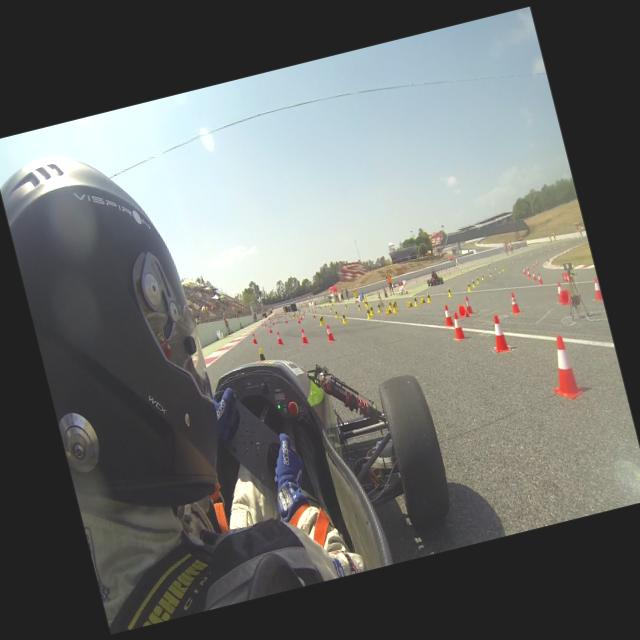orange_cone: (543, 332, 585, 402), (486, 313, 512, 353), (448, 311, 467, 342), (506, 290, 521, 314), (440, 303, 454, 327), (588, 278, 602, 302), (558, 287, 575, 305), (553, 281, 566, 303), (462, 295, 474, 315), (322, 324, 334, 342), (456, 302, 468, 317), (298, 328, 308, 345), (274, 330, 283, 346), (536, 272, 544, 284), (250, 332, 258, 344), (565, 271, 573, 282), (530, 271, 536, 281), (561, 272, 568, 280), (267, 325, 273, 334), (526, 270, 530, 277), (296, 317, 300, 323), (312, 312, 316, 318), (522, 269, 526, 275), (299, 314, 303, 320), (270, 320, 274, 326), (522, 266, 526, 272), (284, 318, 288, 323), (531, 263, 535, 268), (534, 261, 538, 265), (526, 266, 530, 270)
yellow_cone: (364, 306, 372, 318), (368, 303, 376, 315), (339, 312, 346, 324), (258, 348, 265, 360), (317, 314, 324, 326), (390, 301, 397, 313), (424, 292, 432, 302), (374, 302, 382, 312), (418, 294, 426, 304), (406, 298, 414, 308), (446, 286, 452, 297), (412, 295, 418, 306), (392, 298, 398, 309), (384, 306, 392, 314), (465, 281, 471, 291), (470, 278, 476, 288), (387, 300, 393, 310), (474, 276, 480, 284), (334, 309, 338, 318), (320, 314, 324, 323), (356, 304, 361, 310), (343, 303, 348, 309), (362, 300, 367, 305), (480, 274, 484, 280), (488, 270, 492, 276), (501, 264, 505, 270), (497, 268, 501, 273), (314, 310, 318, 315), (302, 312, 305, 318), (364, 302, 368, 306), (328, 307, 332, 311), (501, 266, 504, 271), (494, 266, 497, 270)
